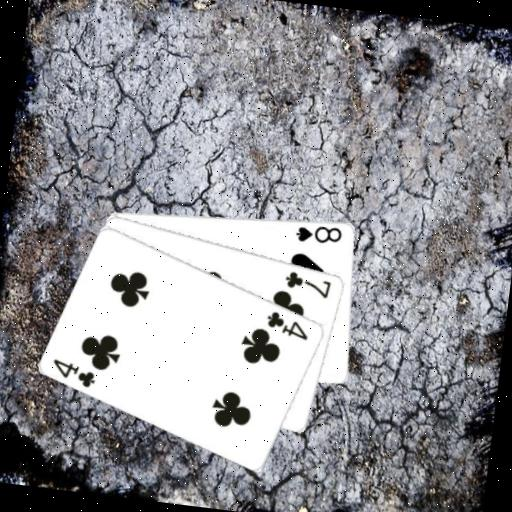4C: (48, 355, 100, 391), (262, 307, 313, 343)
7C: (281, 267, 334, 300)
8S: (292, 220, 345, 248)
